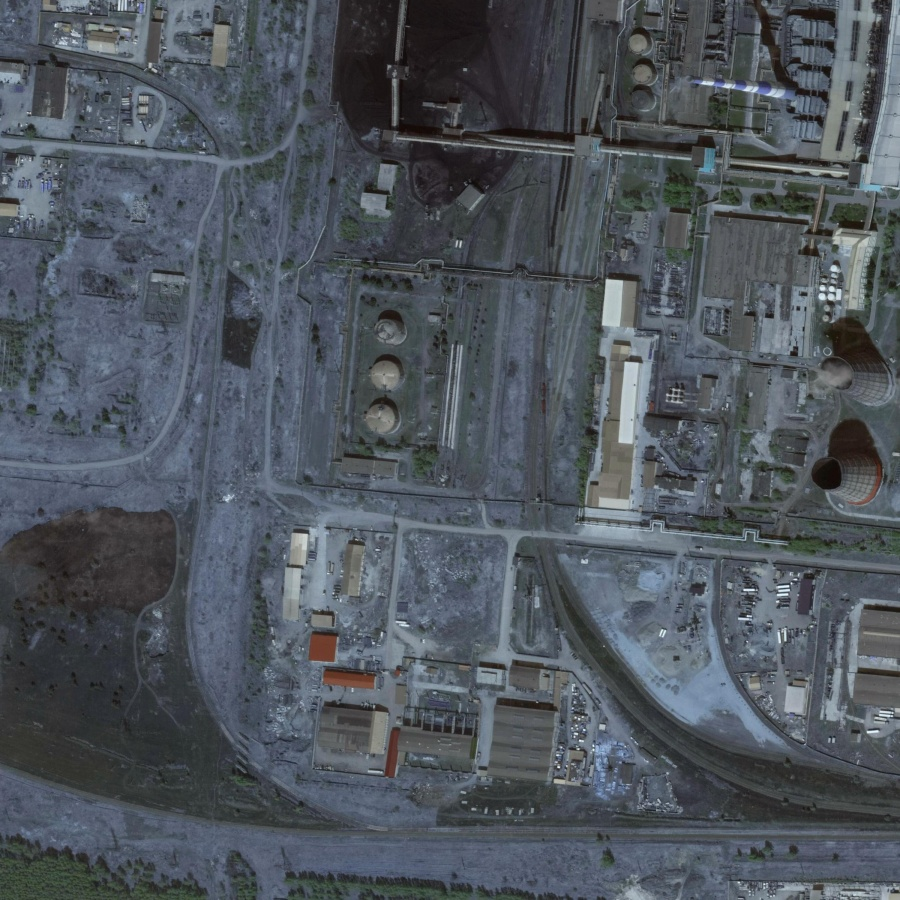PowerPlant: (325, 252, 473, 494)
